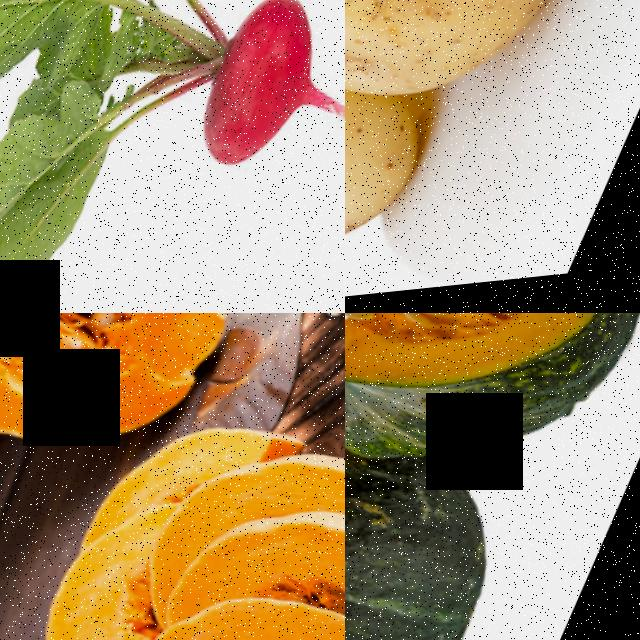potato: (345, 0, 632, 161), (345, 0, 458, 313)
pumpkin: (345, 313, 640, 522), (345, 331, 539, 640), (0, 313, 255, 498), (198, 471, 345, 640), (0, 565, 186, 640)
radishes: (57, 0, 345, 228)
